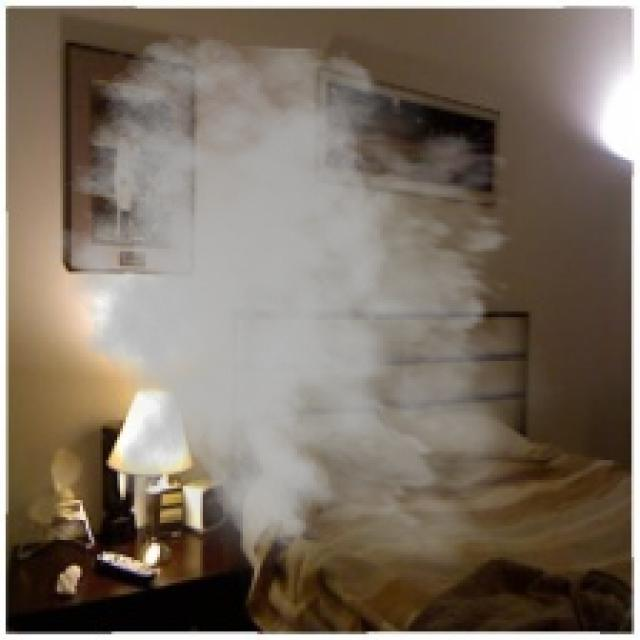smoke: (31, 34, 572, 600)
